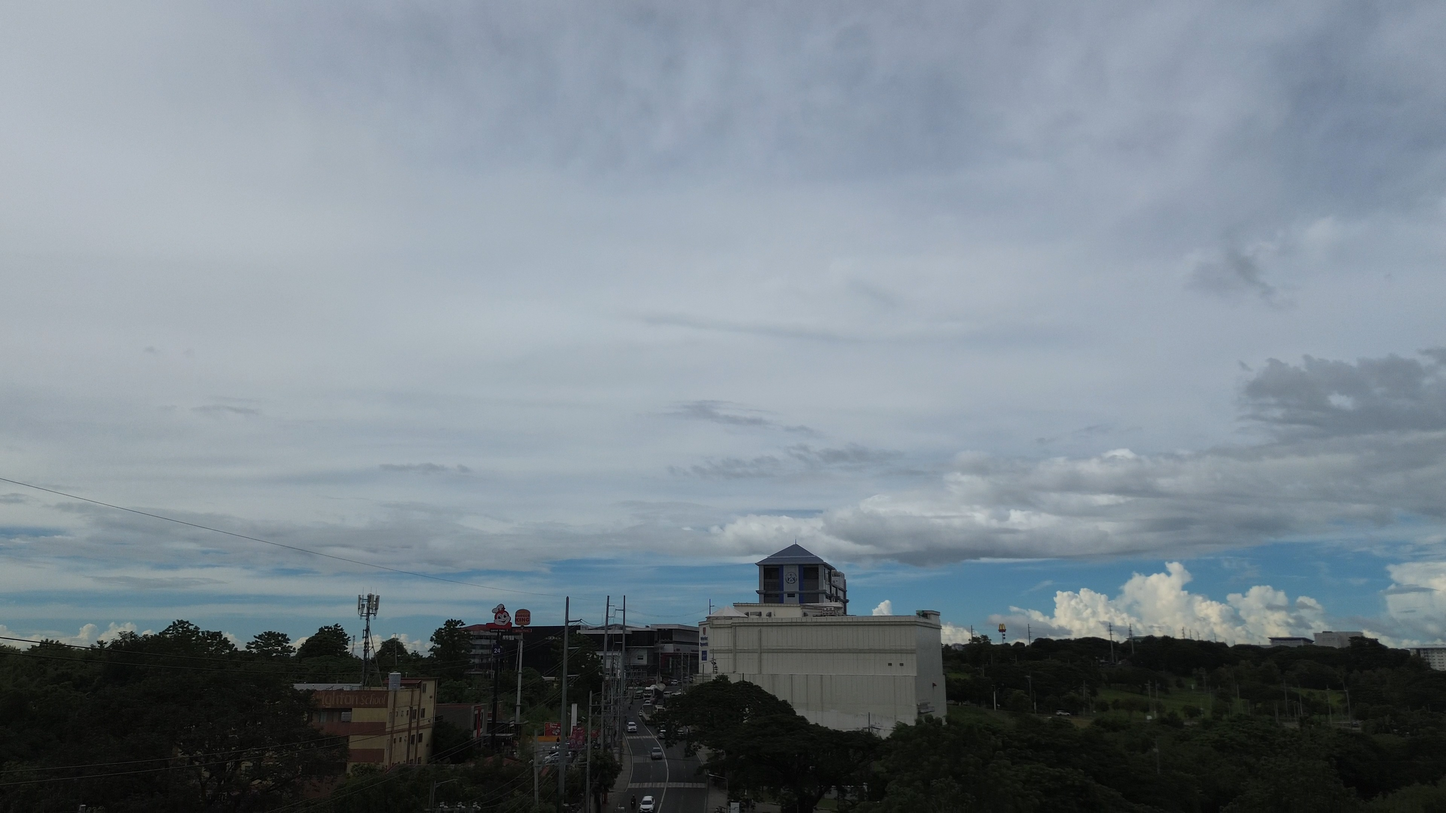car: (638, 796, 655, 813), (650, 747, 664, 760)
vehicle: (626, 721, 638, 733), (1055, 711, 1072, 716)
